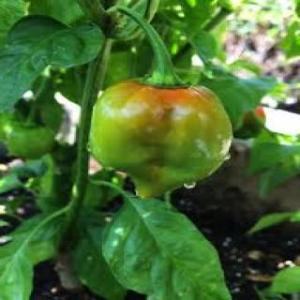bell_pepper: (78, 72, 238, 214)
